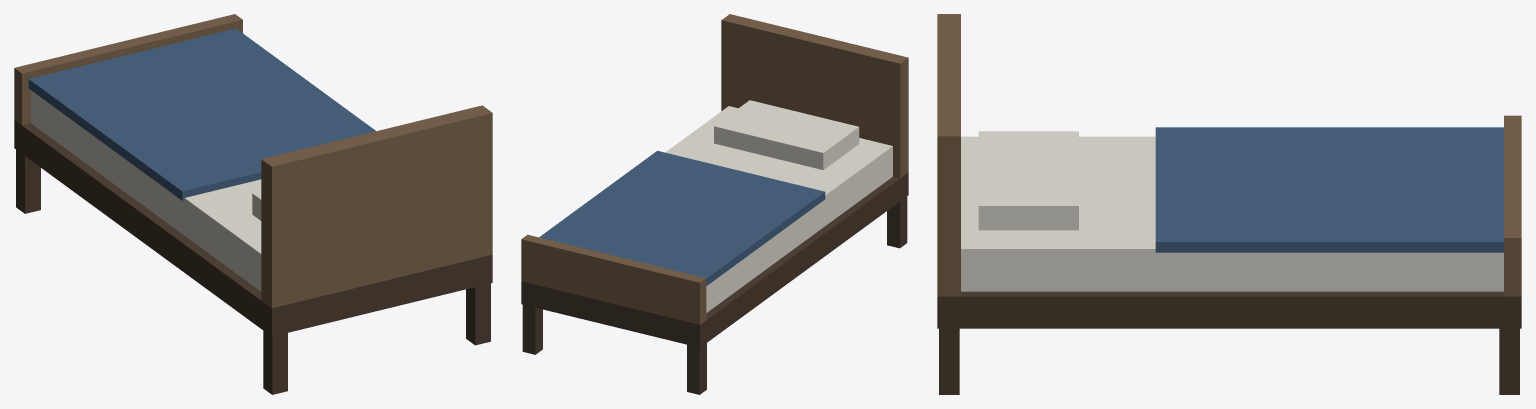
File: int_bed.glb
3 views of the same model, side by side, from view 1: azimuth 30°, elevation 25°; view 2: azimuth 150°, elevation 25°; view 3: azimuth 270°, elevation 25° (orthographic). The views are drawn at different scales.
Visible parts, largest first — view 1: int_bed; view 2: int_bed; view 3: int_bed.
Part boxes in pixels (bbox=[...]): int_bed: bbox=[14, 14, 492, 394]; int_bed: bbox=[521, 14, 908, 394]; int_bed: bbox=[937, 14, 1521, 394].
Bounding box in the file's own units: 0.98 × 0.97 × 1.98.
Materials: 1 (1 with a texture image).
